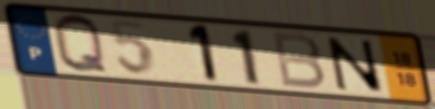1: (186, 24, 222, 86), (230, 27, 262, 86)
5: (107, 18, 159, 78)
B: (269, 30, 328, 92)
N: (323, 35, 388, 96)
Q: (50, 12, 111, 76)
